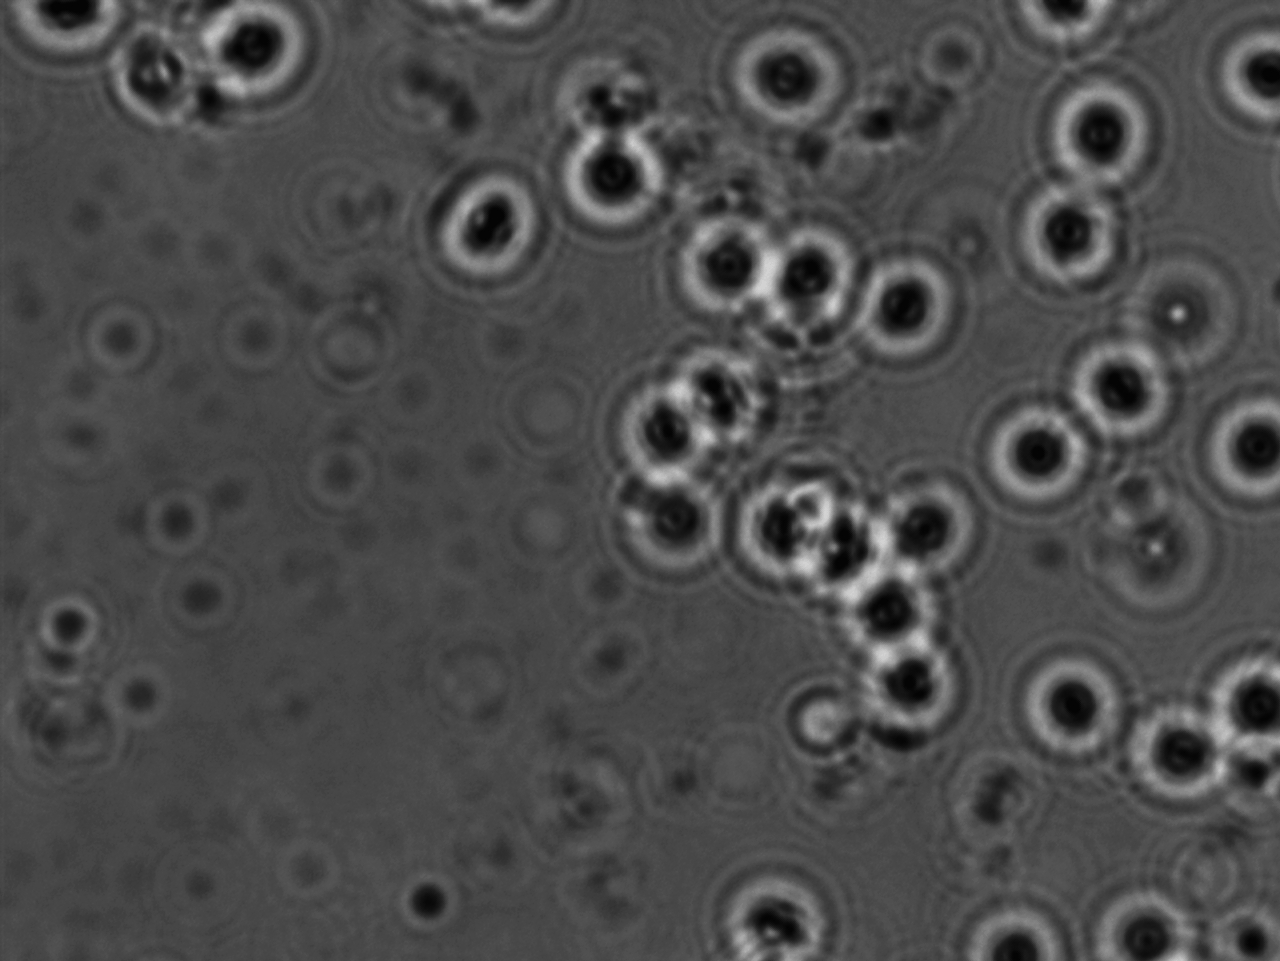depth:-16: (986, 153, 1137, 305), (586, 458, 739, 601), (1032, 54, 1179, 195), (1060, 315, 1198, 449), (560, 126, 697, 255), (1005, 636, 1130, 775), (833, 225, 965, 353), (862, 455, 996, 580), (722, 17, 851, 143), (963, 398, 1091, 523), (426, 158, 547, 289), (658, 193, 786, 313), (740, 213, 870, 331), (603, 376, 718, 508), (1116, 691, 1231, 817), (1189, 17, 1280, 136), (942, 878, 1071, 961), (1197, 379, 1280, 506), (1079, 888, 1202, 961), (1218, 650, 1280, 778)
